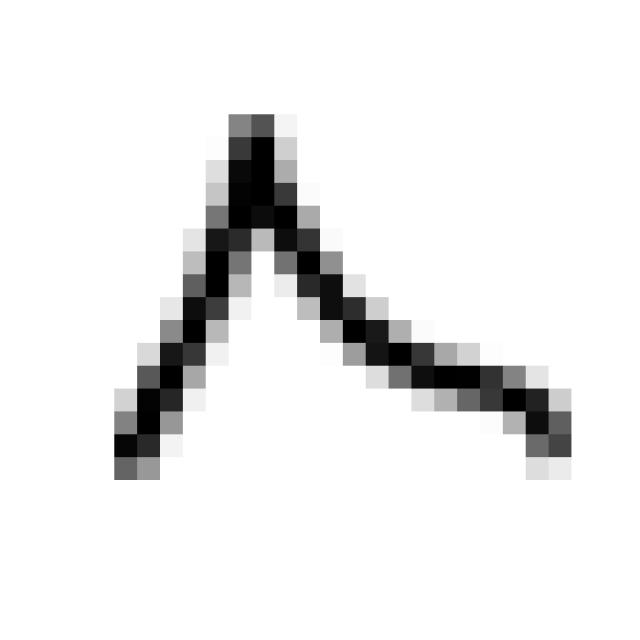8 -eight-: (84, 87, 588, 493)
